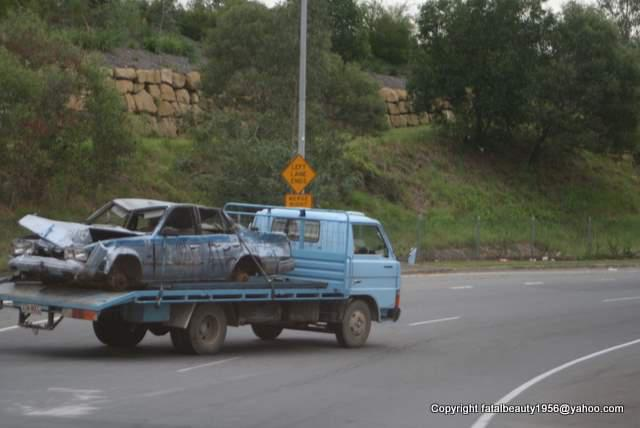bonnet-dent: (28, 217, 131, 251)
doorouter-dent: (157, 238, 202, 281), (205, 233, 238, 286)
front-bumper-dent: (20, 246, 106, 282)
quaterpanel-dent: (232, 223, 295, 268)
